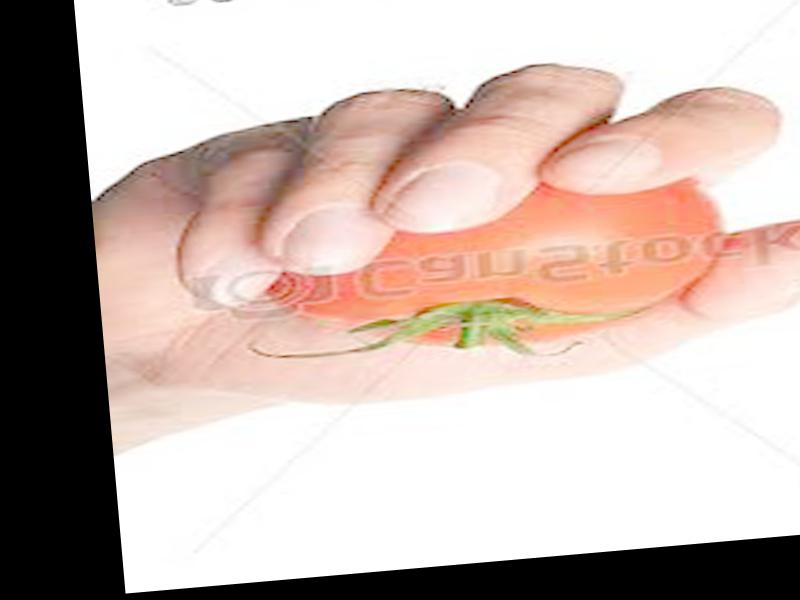Tomato: (263, 172, 730, 362)
